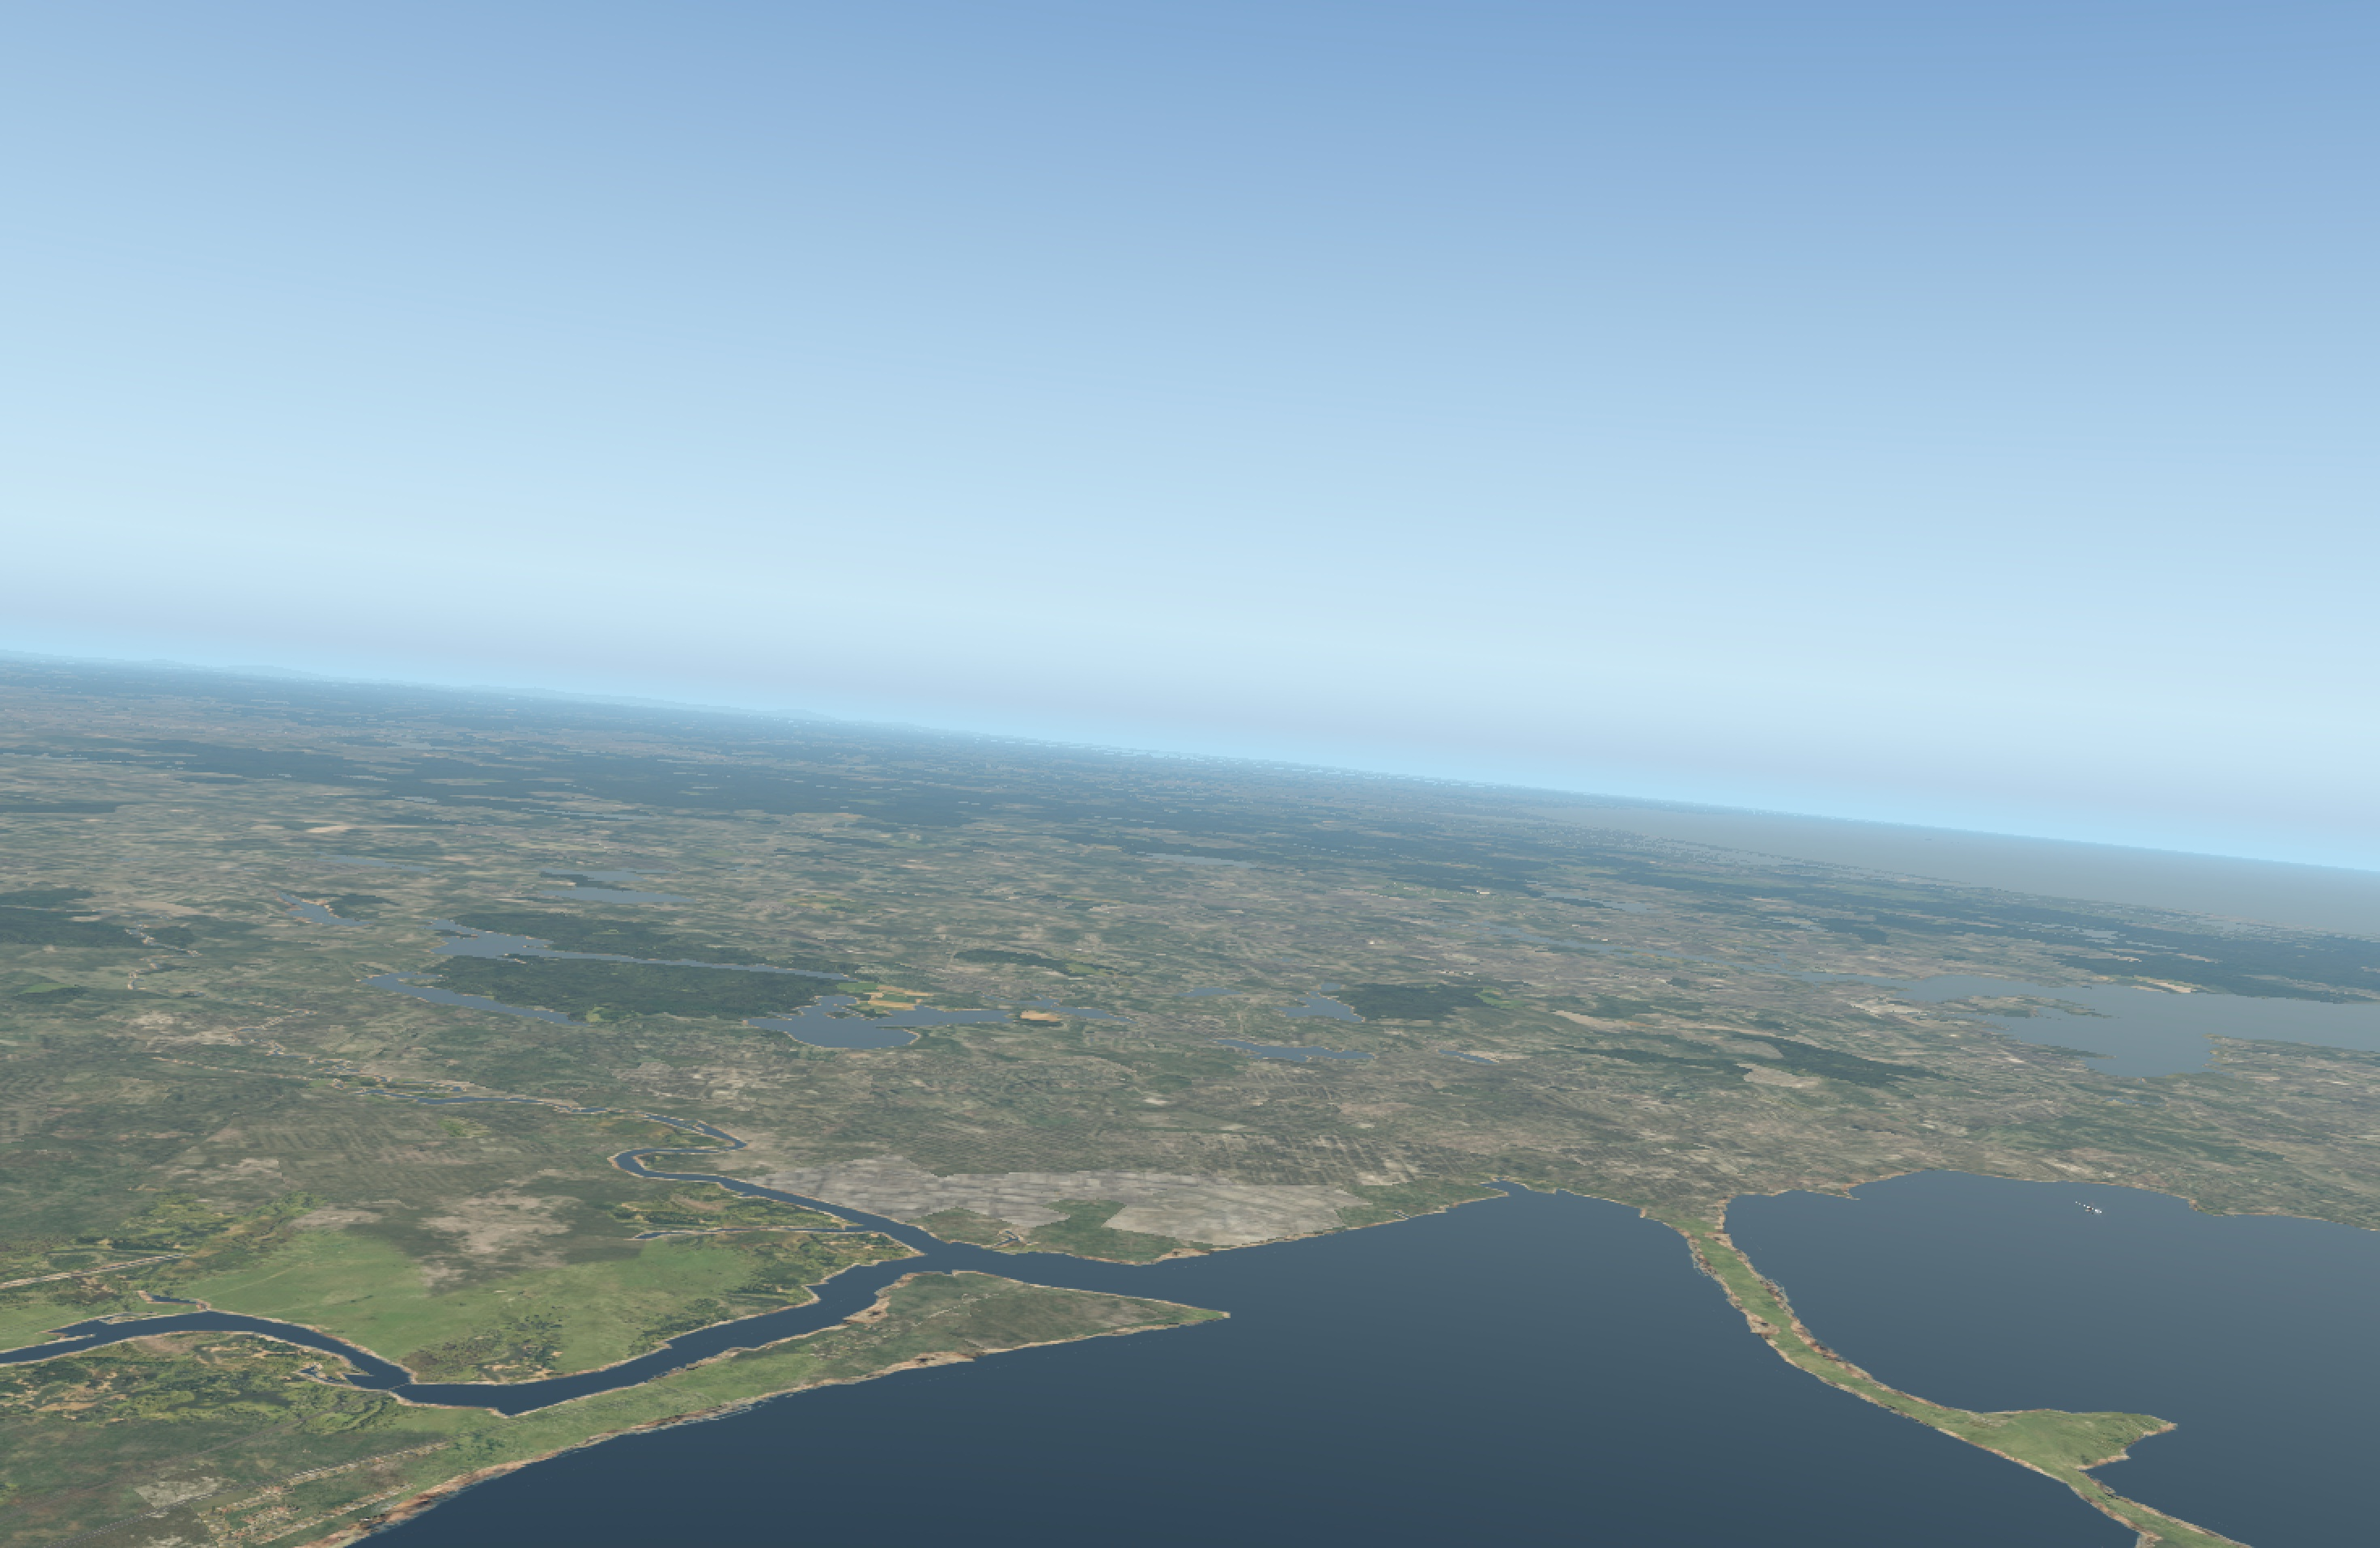aircraft: (2082, 1206, 2099, 1213)
